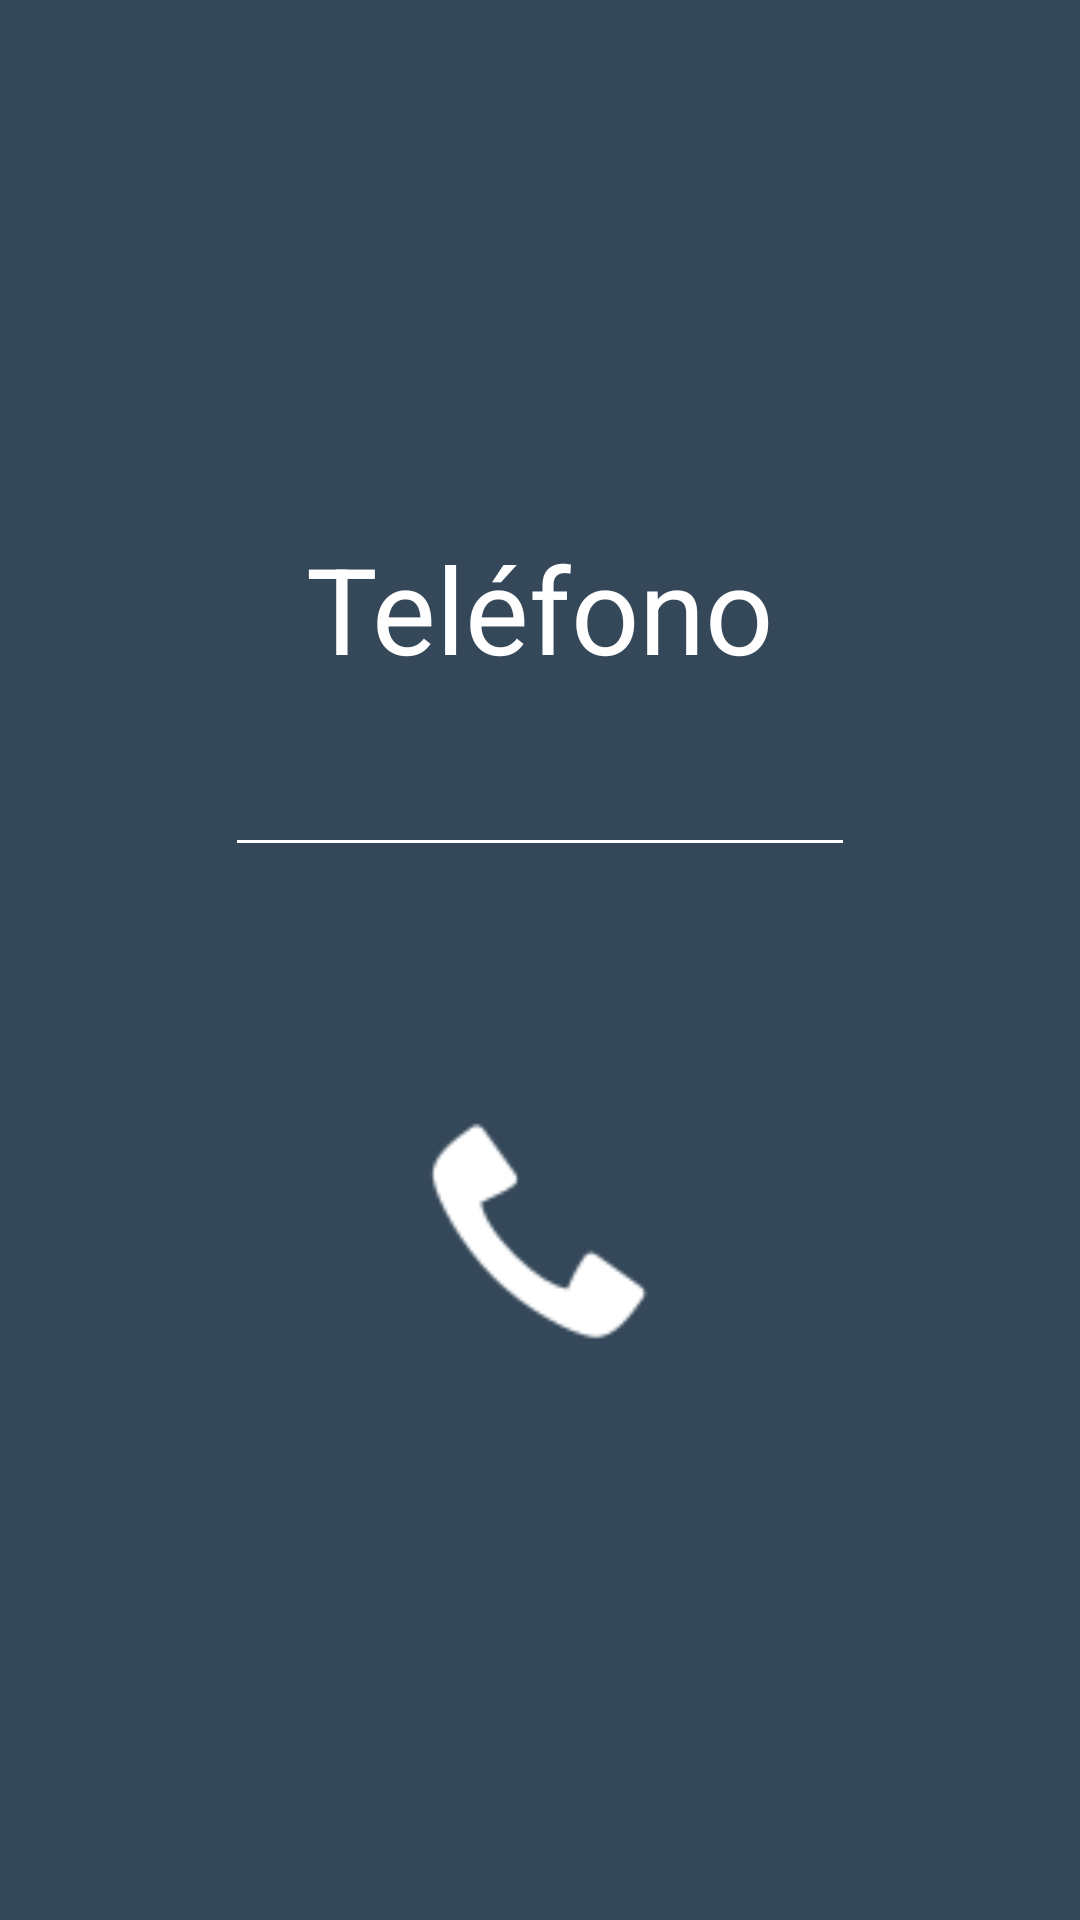

Named icons in this screenshot (1080 × 1920) and their centers, (x=x, y=y):
phone call: (x=539, y=1231)
